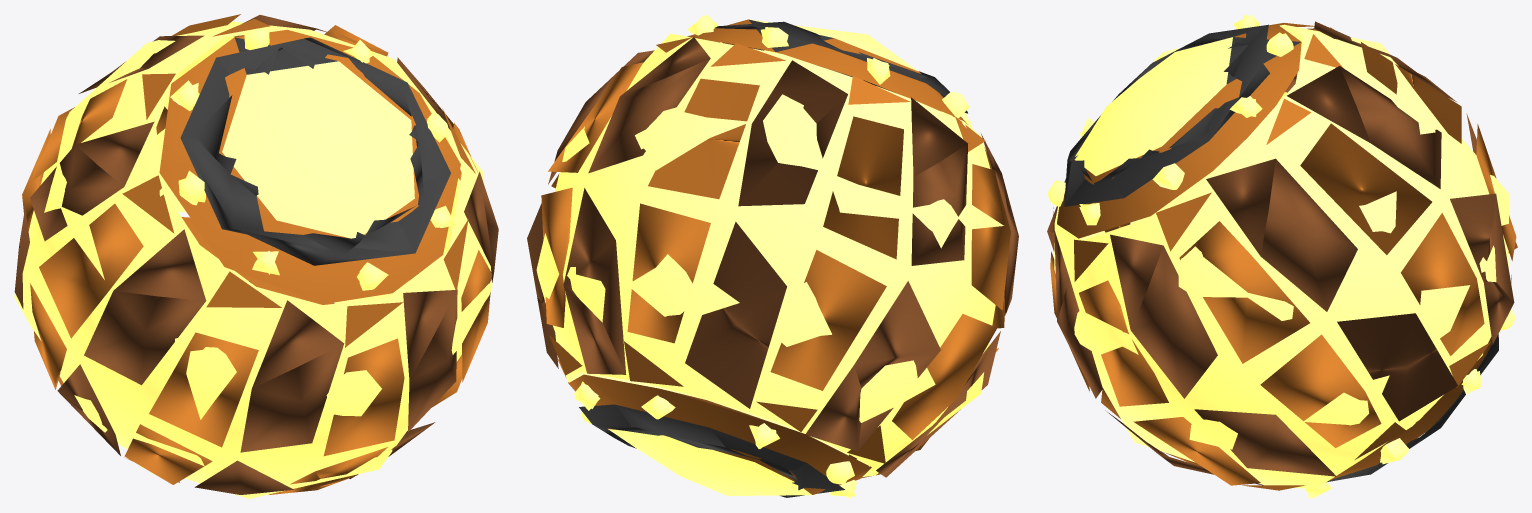
File: bomb.glb
3 renders of one model, left to right at view 1: azimuth 30°, elevation 25°; view 2: azimuth 150°, elevation 25°; view 3: azimuth 270°, elevation 25°, orthographic. The views are drawn at different scales.
Visible parts, largest first — view 1: pumpkin_bomb; view 2: pumpkin_bomb; view 3: pumpkin_bomb.
Boxes of the visible parts, box(x1,y1,x2,y2) form: pumpkin_bomb: box(14, 14, 498, 498); pumpkin_bomb: box(527, 14, 1018, 498); pumpkin_bomb: box(1047, 14, 1517, 498).
Size of the model in its own units: 0.1905 by 0.2 by 0.1932.
